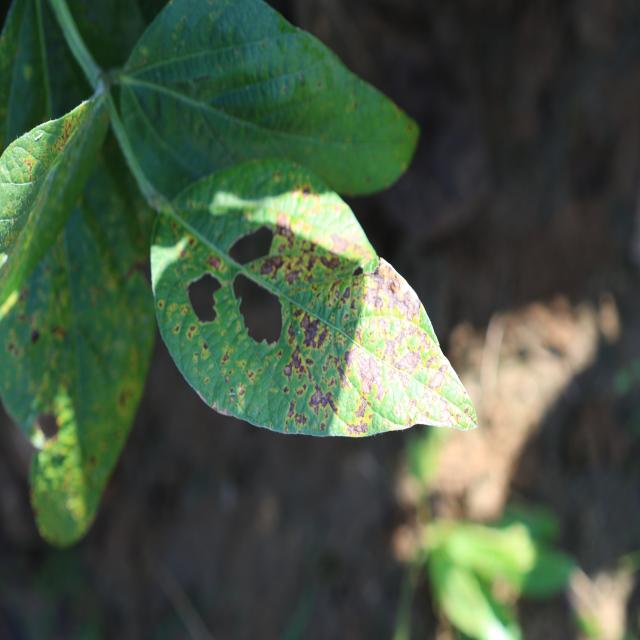Bacterial_Blight: (363, 272, 423, 327), (291, 299, 341, 360), (190, 326, 234, 395), (355, 354, 381, 395), (325, 232, 365, 258), (393, 345, 423, 373), (274, 211, 296, 236), (259, 349, 277, 372), (260, 258, 279, 277), (336, 287, 352, 309), (283, 268, 303, 285), (118, 387, 134, 408), (23, 156, 36, 178), (205, 255, 222, 271), (349, 420, 368, 434), (7, 341, 22, 357), (286, 399, 297, 419), (233, 317, 243, 335), (287, 324, 296, 341), (19, 287, 29, 302), (87, 455, 97, 468), (139, 45, 149, 58), (283, 364, 292, 377), (188, 325, 197, 337), (301, 185, 311, 195), (455, 413, 462, 423), (300, 75, 306, 86), (320, 133, 328, 141), (188, 238, 195, 247), (157, 300, 164, 309), (193, 352, 199, 362), (463, 407, 470, 415), (173, 324, 179, 333), (320, 422, 326, 431), (283, 386, 289, 394), (203, 342, 208, 350), (317, 81, 322, 88)
Soybean: (151, 160, 476, 437)
